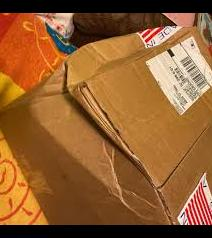damage_box: (0, 19, 212, 225)
